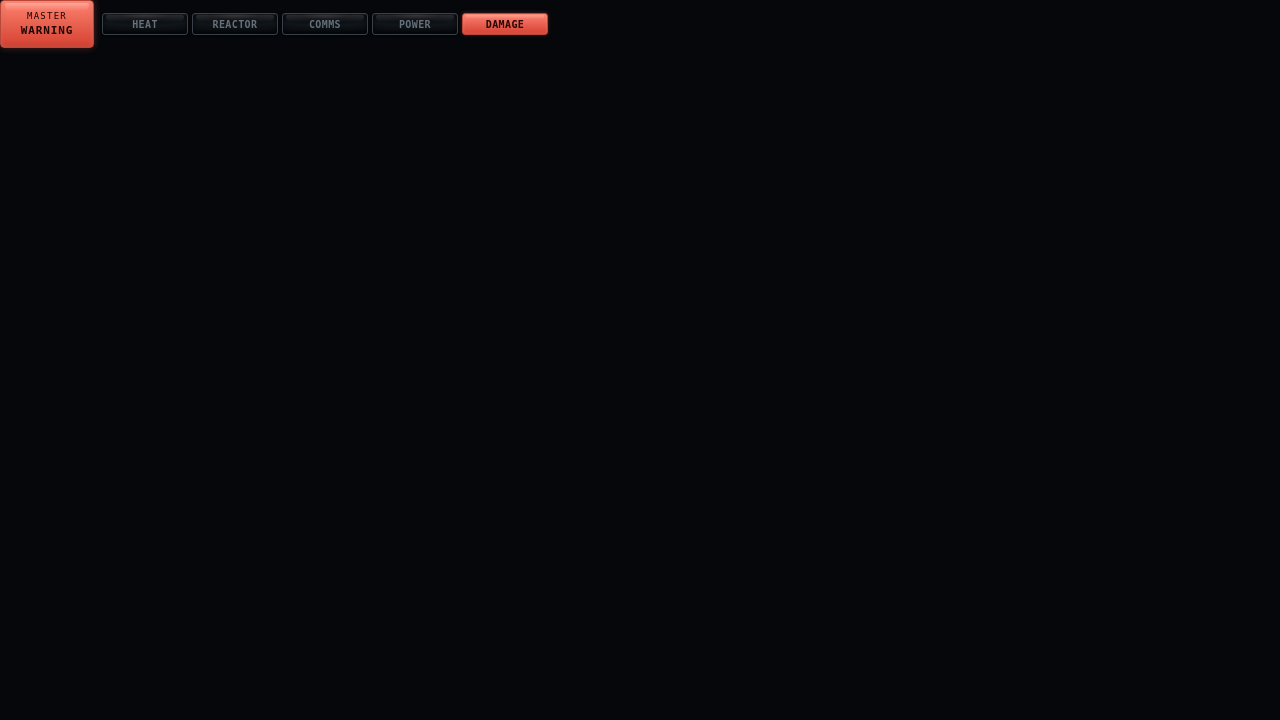
Scenario: Flight annunciator surface › acknowledges DAMAGE and opens a focused damaged-parts report
This screenshot has width=1280, height=720.
Click the button named "DAMAGE new warning. Acknowledge and show affected craft parts." at (505, 24), box [462, 13, 548, 35]
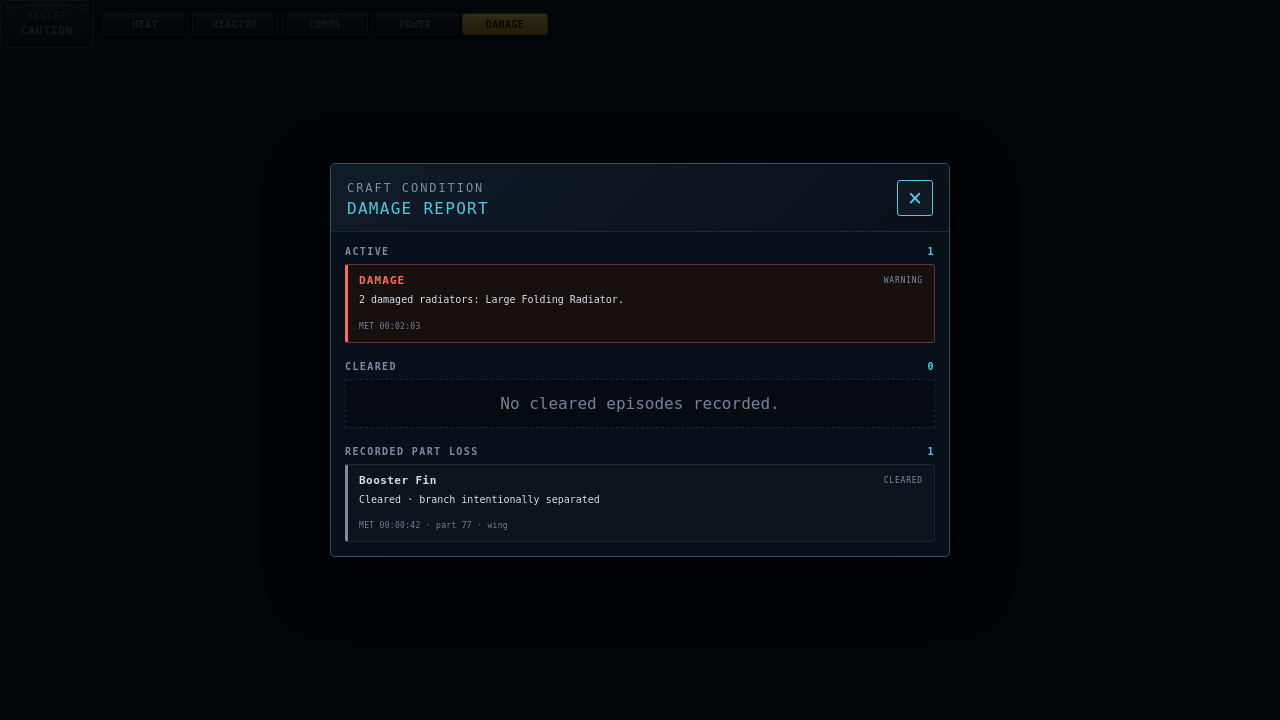
Expected: the dialog "Damage report" is shown, [330, 163, 950, 557]
Expected: the text "2 damaged radiators: Large Folding Radiator." is shown, [359, 294, 624, 305]
Expected: the heading "Recorded part loss 1" is shown, [345, 446, 935, 456]
Press Escape
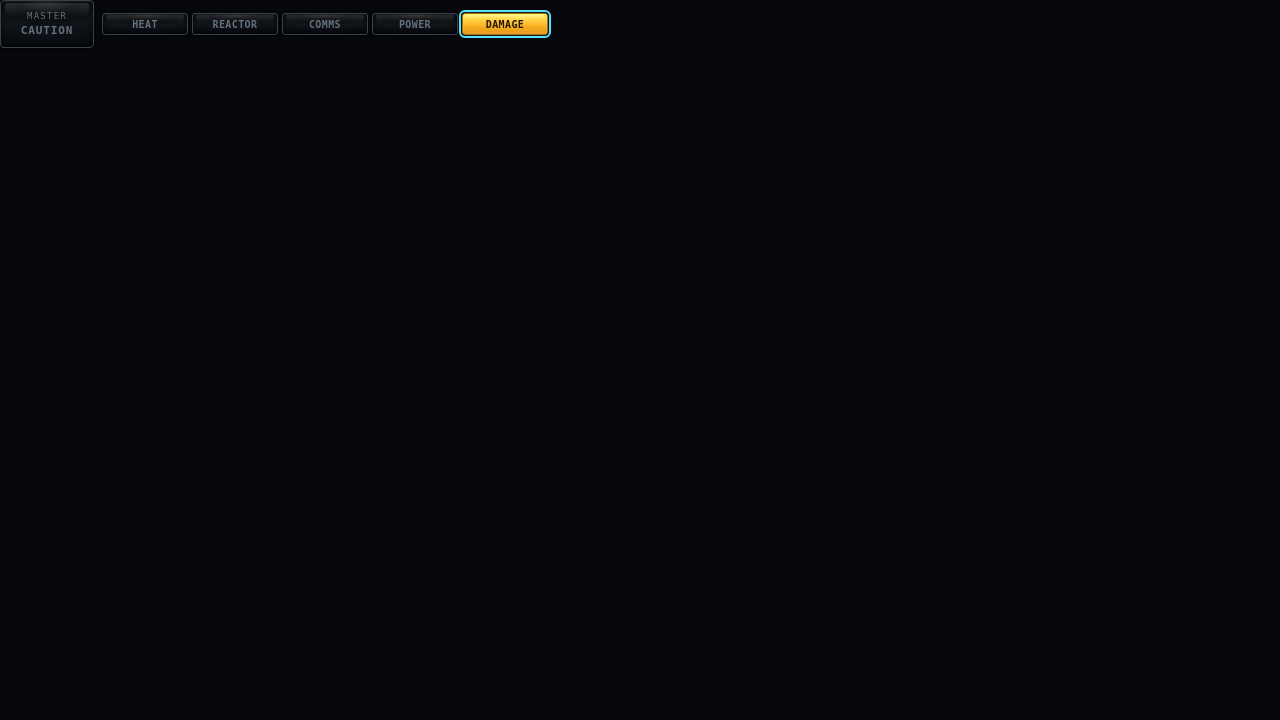
Expected: the button with aria-label "DAMAGE warning acknowledged. Show affected craft parts." is shown, [462, 13, 548, 35]
Expected: the button with aria-label "Master caution clear" is shown, [0, 0, 94, 48]
Expected: the dialog is gone
